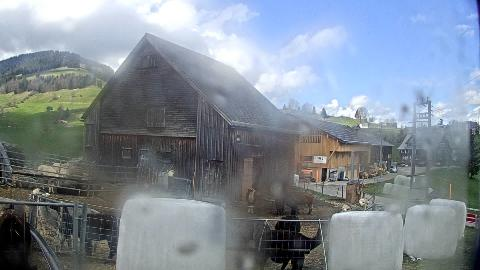car: (388, 166, 398, 172), (418, 161, 426, 167)
sheep: (28, 188, 101, 254), (48, 197, 120, 259), (253, 216, 329, 270), (274, 213, 301, 270), (38, 164, 66, 194), (0, 194, 28, 222), (286, 188, 316, 214), (52, 162, 76, 184), (14, 173, 46, 189), (244, 187, 256, 213), (274, 192, 286, 214), (58, 184, 84, 194), (252, 168, 262, 190), (359, 198, 369, 210), (341, 204, 353, 212)
